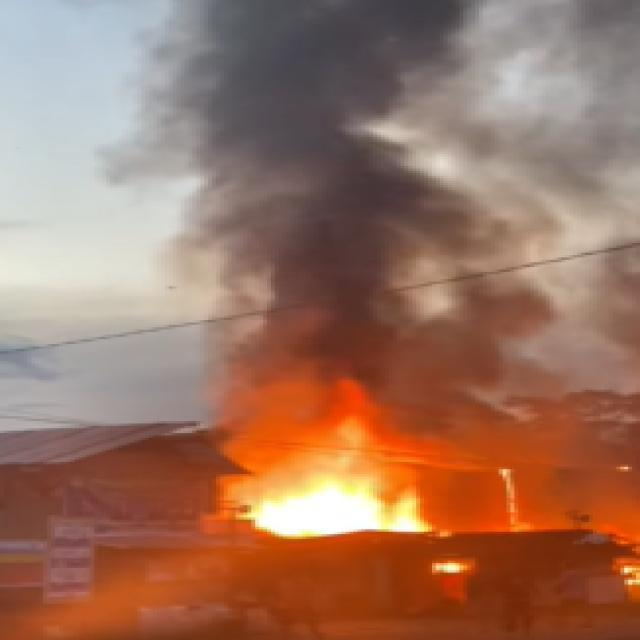Fire: (252, 367, 486, 536)
Smoke: (168, 1, 640, 418)
